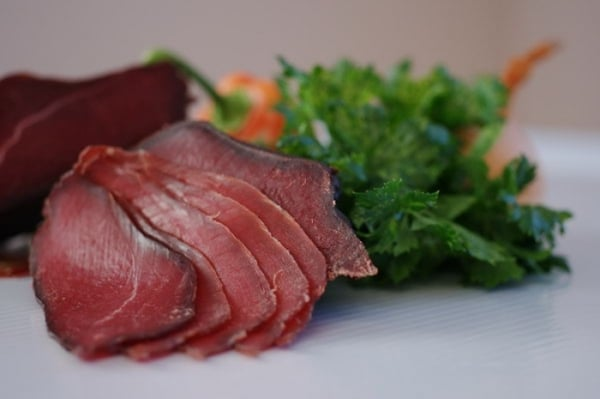curry: (270, 48, 574, 290)
